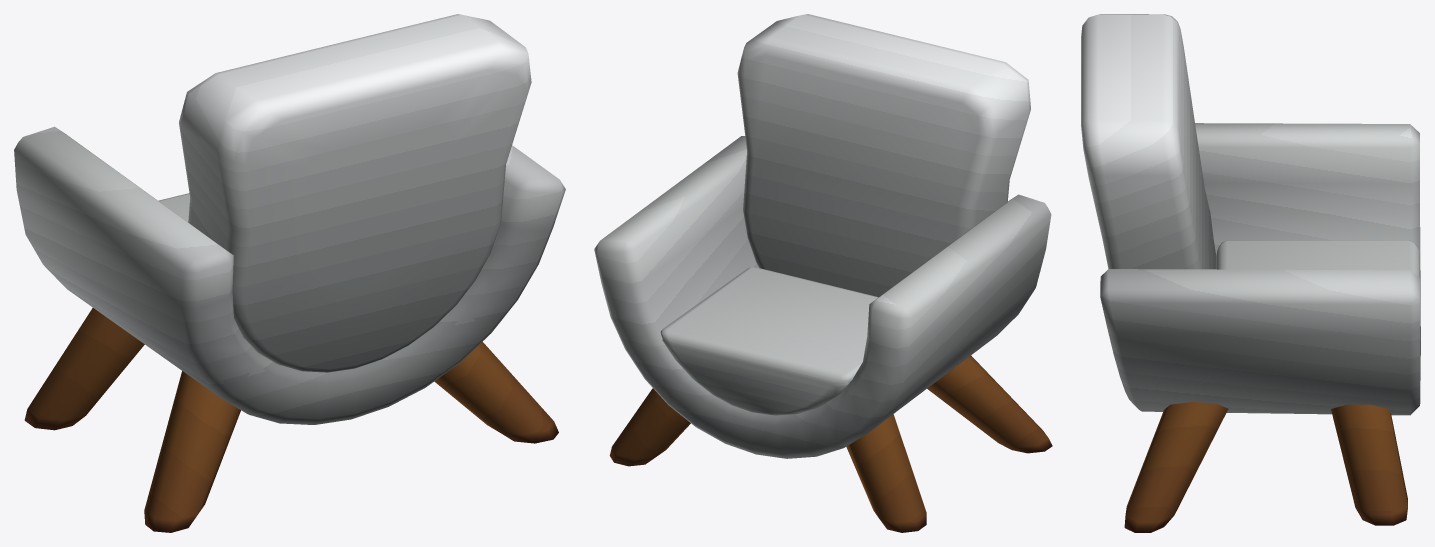
File: Chair_White.fbx
3 views of the same model, side by side, from view 1: azimuth 30°, elevation 25°; view 2: azimuth 150°, elevation 25°; view 3: azimuth 270°, elevation 25° (orthographic). The views are drawn at different scales.
Parts seen in each view (by area): view 1: Chair; view 2: Chair; view 3: Chair.
Part boxes in pixels (x1,y1,x2,y2): Chair: (14,14,565,532); Chair: (594,14,1052,532); Chair: (1081,14,1420,532).
Size of the model in its own units: 93.55 by 94.76 by 76.57.
